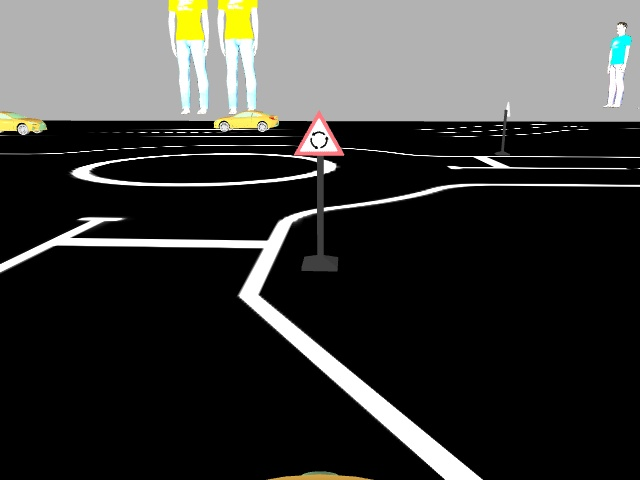Roundabout: (292, 108, 345, 157)
